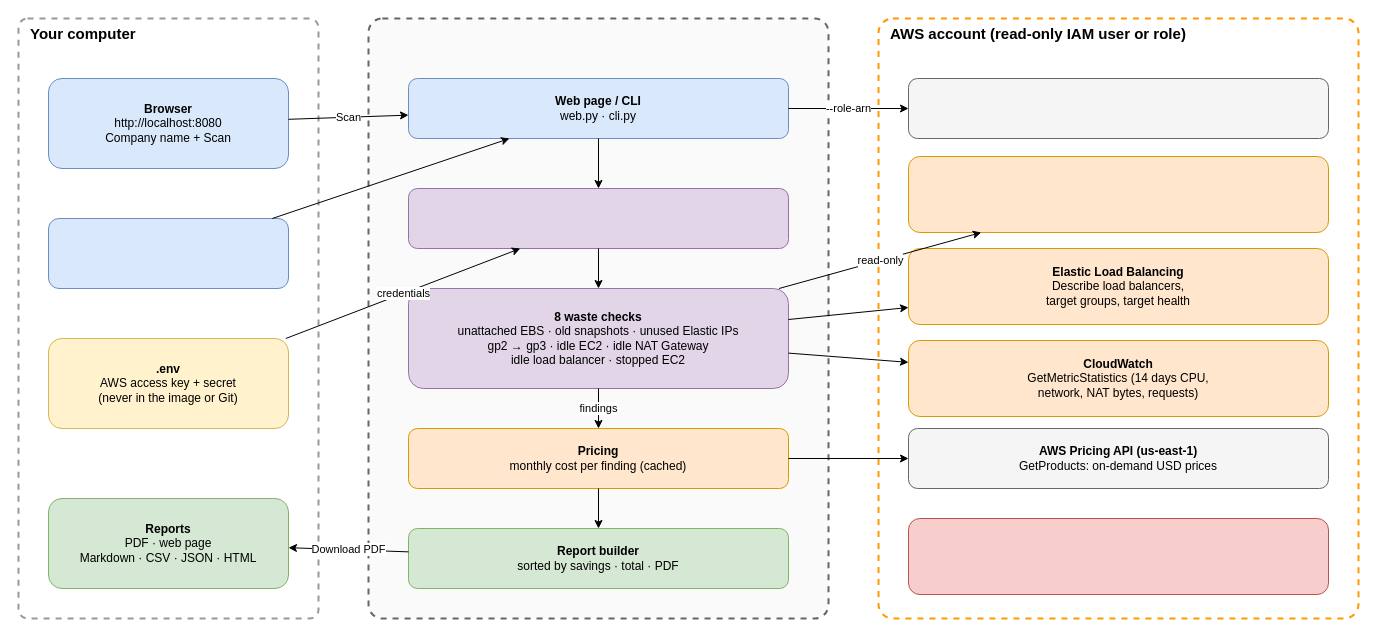
Some shapes in this 1376 by 636 pixel diagram are drawn without their labels. Each missing label, with the box of its shape:
cwf (Docker container or pipx): (367, 17, 829, 619)
EC2 / EBS Describe instances, volumes, snapshots, images, addresses, NAT: (908, 156, 1328, 232)
Never used no create / modify / delete no Cost Explorer (no per-call charge): (908, 518, 1328, 594)
Scanner all enabled regions in parallel (8 at a time): (408, 188, 788, 248)
STS (optional) AssumeRole into a client's read-only role: (908, 78, 1328, 138)
Terminal cwf scan --all-regions: (48, 218, 288, 288)
